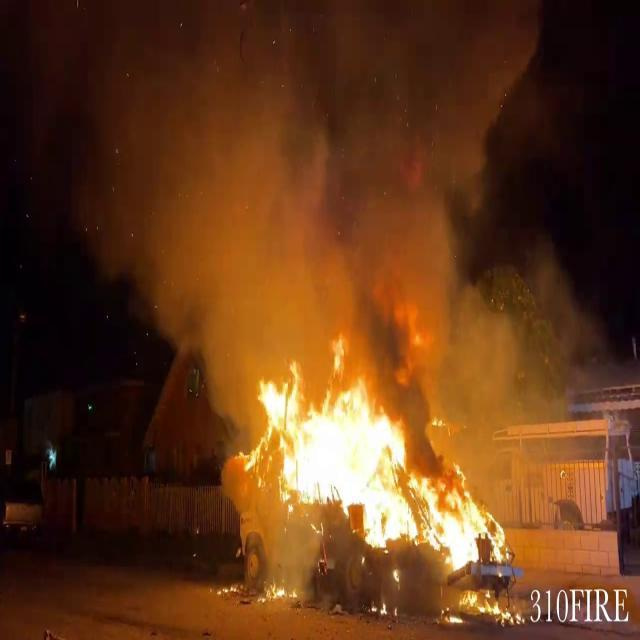Fire: (243, 348, 519, 574)
Smoke: (31, 0, 623, 363)
